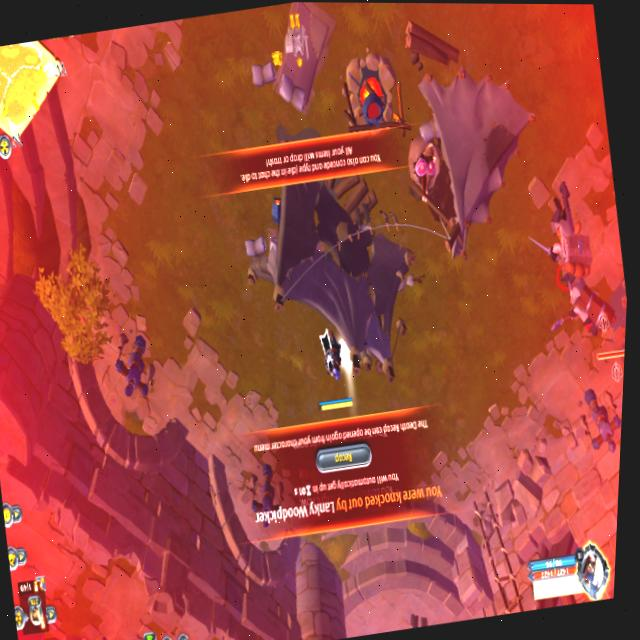ore: (528, 180, 605, 300), (559, 270, 628, 393)
red: (306, 322, 363, 415)
stone: (336, 340, 356, 371)
